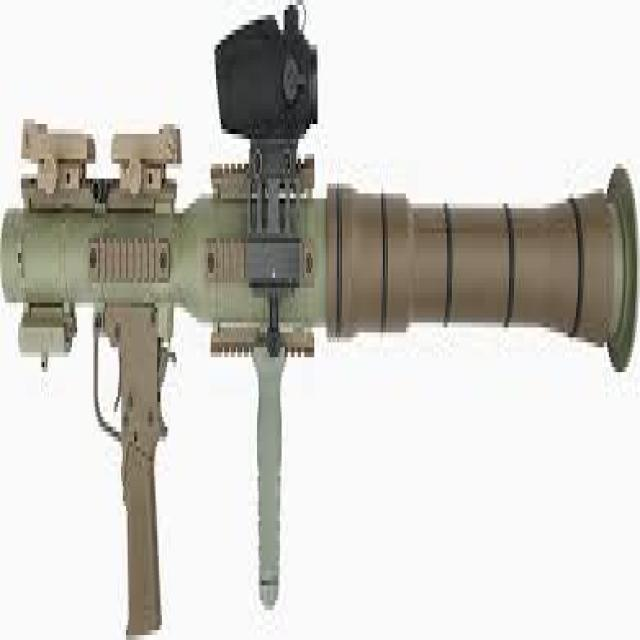Gun: (5, 0, 640, 635)
